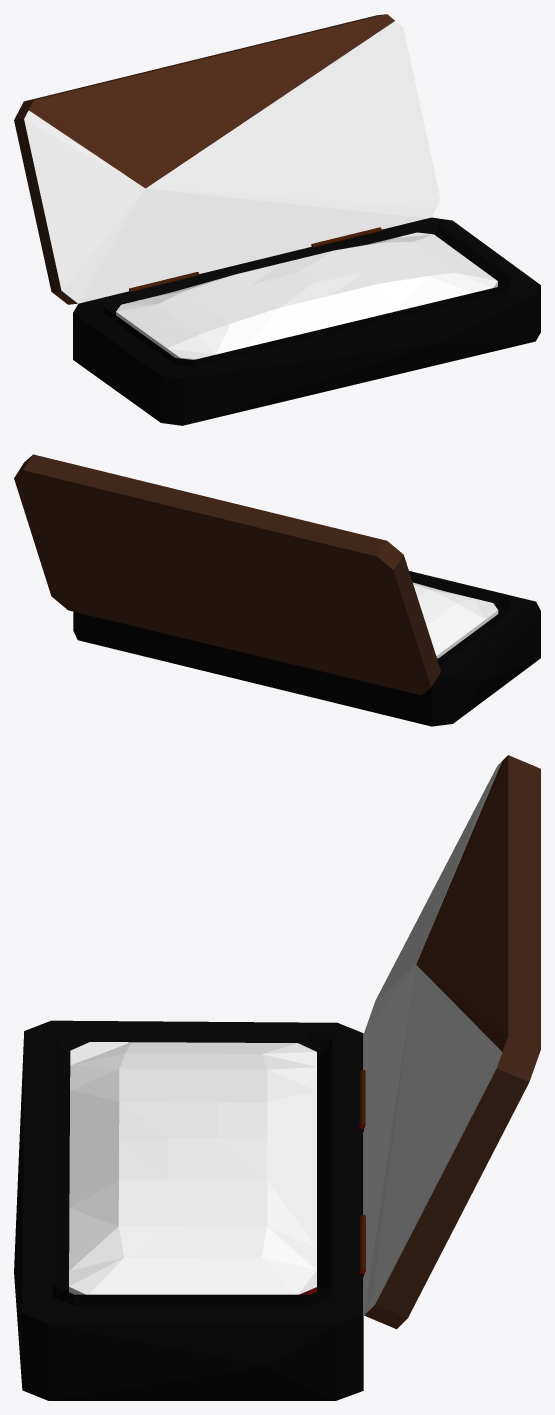
Rendered from greeninju.FBX.
3 views of the same model, one above another, from view 1: azimuth 30°, elevation 25°; view 2: azimuth 150°, elevation 25°; view 3: azimuth 270°, elevation 25° (orthographic). The views are drawn at different scales.
Parts seen in each view (by area): view 1: Box001; view 2: Box001; view 3: Box001.
Boxes of the visible parts, bbox=[...] form: Box001: bbox=[14, 14, 540, 425]; Box001: bbox=[14, 454, 540, 726]; Box001: bbox=[14, 755, 540, 1400].
Bounding box in the file's own units: 1224 × 881 × 655.
